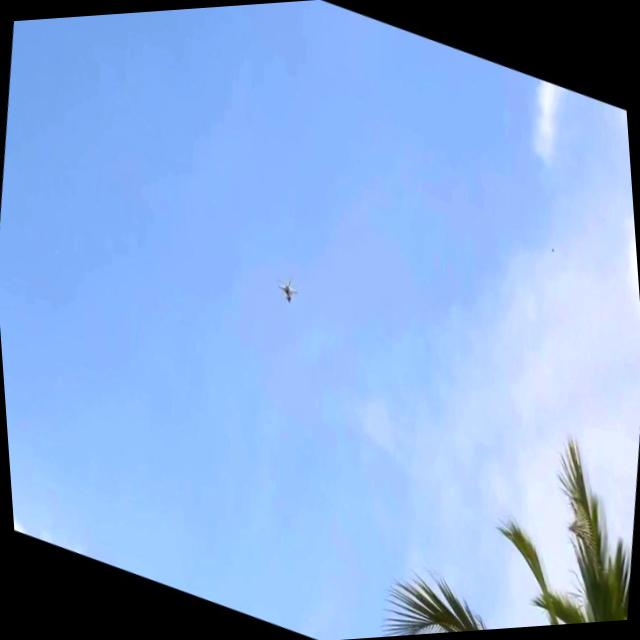drone: (273, 272, 301, 308)
